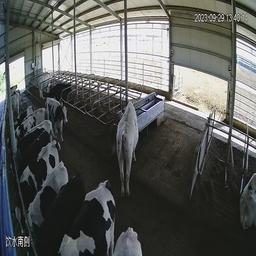cow: (36, 183, 115, 256), (22, 172, 83, 247), (114, 88, 143, 203), (19, 143, 67, 203), (10, 119, 54, 154), (235, 157, 255, 234), (49, 95, 73, 153), (5, 107, 46, 134), (34, 67, 53, 98), (7, 86, 22, 110)
